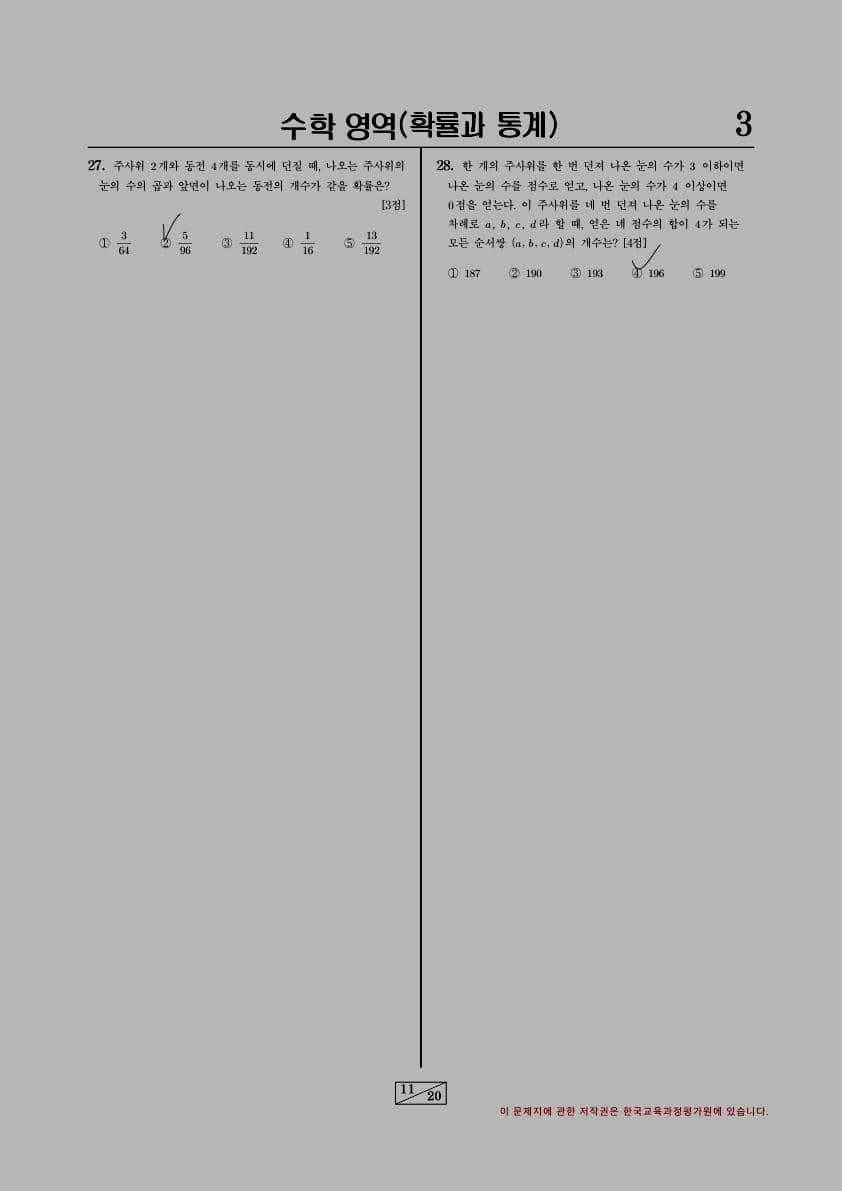question: (424, 149, 754, 299), (78, 149, 414, 272)
